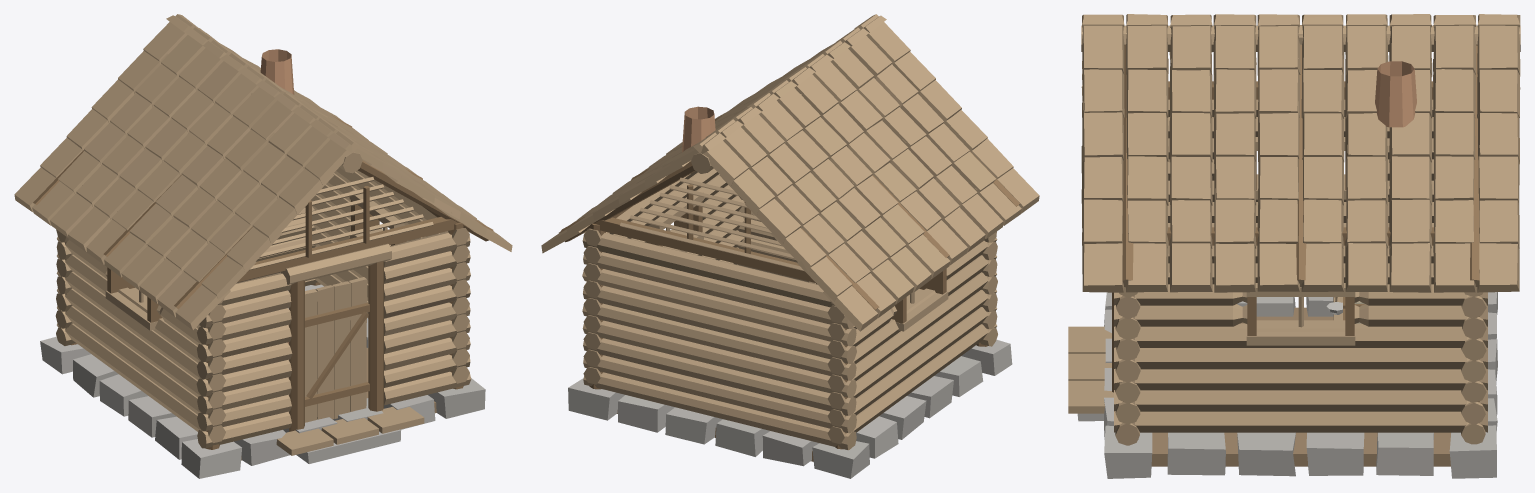
The model's file is building_casting_bench_complete.glb.
3 renders of one model, left to right at view 1: azimuth 30°, elevation 25°; view 2: azimuth 150°, elevation 25°; view 3: azimuth 270°, elevation 25°, orthographic. The views are drawn at different scales.
Parts seen in each view (by area): view 1: building_casting_bench_complete; view 2: building_casting_bench_complete; view 3: building_casting_bench_complete.
Boxes of the visible parts, bbox=[...] form: building_casting_bench_complete: bbox=[14, 14, 512, 478]; building_casting_bench_complete: bbox=[541, 14, 1039, 478]; building_casting_bench_complete: bbox=[1068, 14, 1520, 478].
Bounding box in the file's own units: 3.91 × 3.57 × 3.87.
